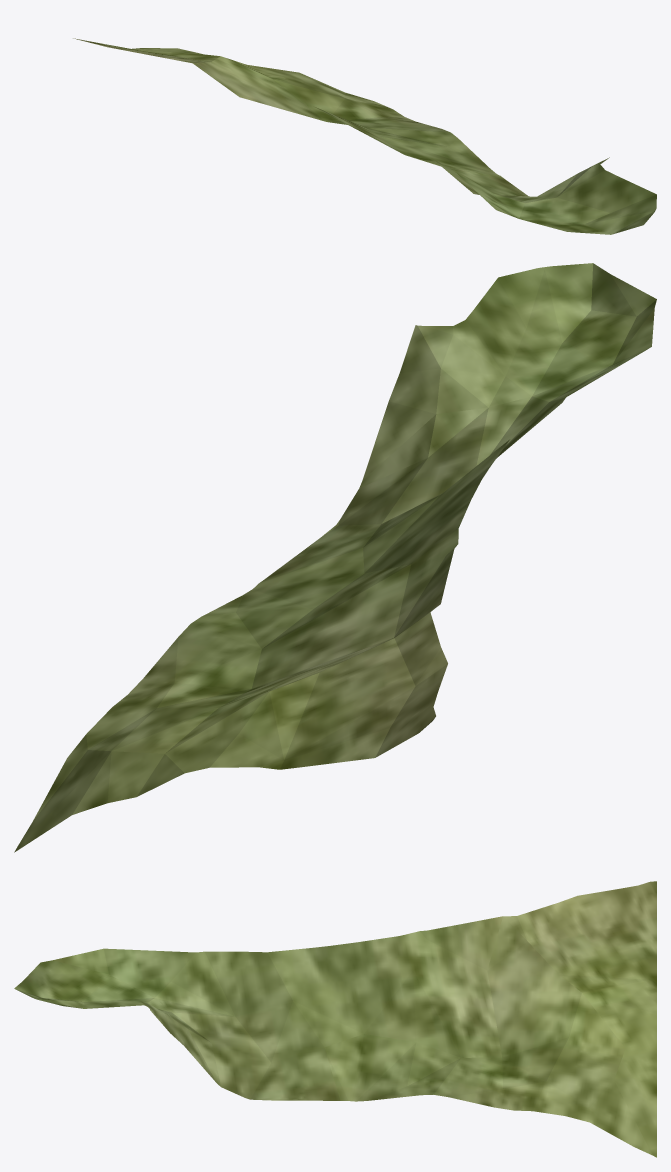
3 renders of one model, top to bottom at view 1: azimuth 30°, elevation 25°; view 2: azimuth 150°, elevation 25°; view 3: azimuth 270°, elevation 25°, orthographic. The views are drawn at different scales.
Bounding box in the file's own units: 1.15 × 0.614 × 2.42.
Materials: 1 (1 with a texture image).
